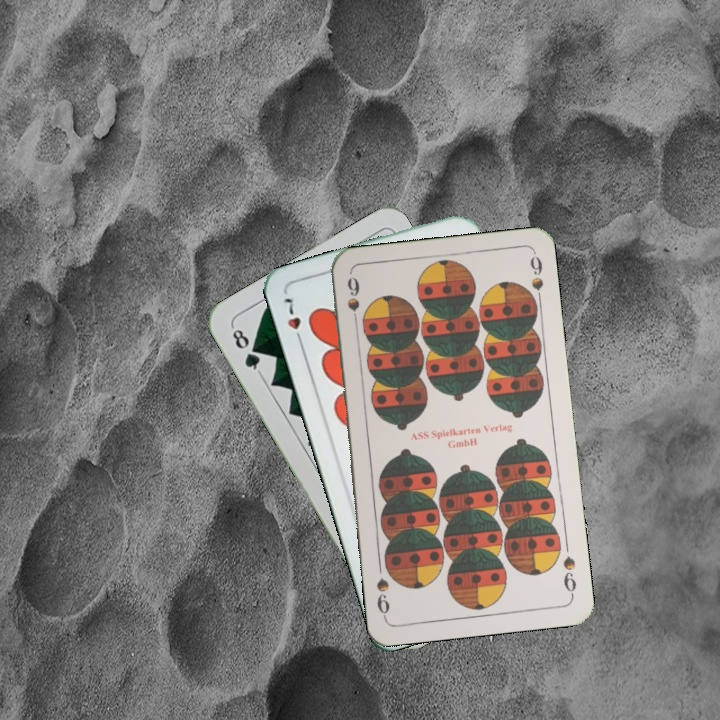G8: (228, 322, 264, 376)
H7: (280, 293, 306, 348)
S9: (343, 272, 362, 331), (559, 552, 579, 599)
